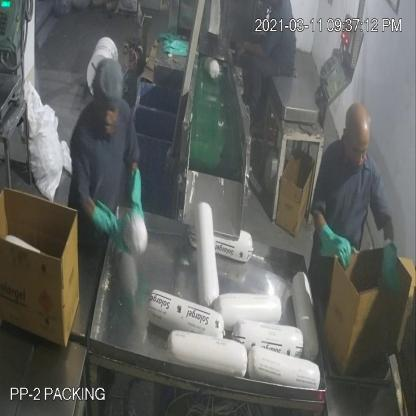glove: (318, 208, 357, 270), (374, 235, 400, 295)
no_glove: (236, 29, 266, 71)
